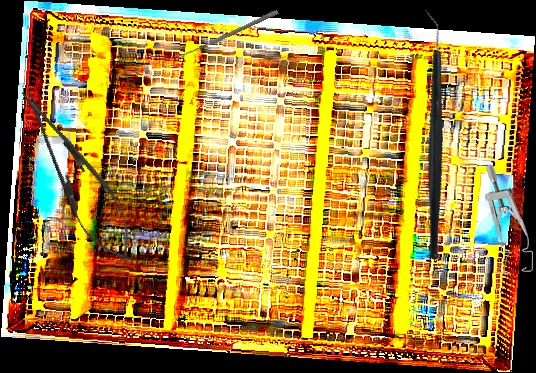Chopper: (341, 7, 521, 261)
Needle Holder: (4, 75, 150, 276)
Speculum: (484, 164, 534, 275)
Surgical Spoon: (177, 8, 279, 61)
